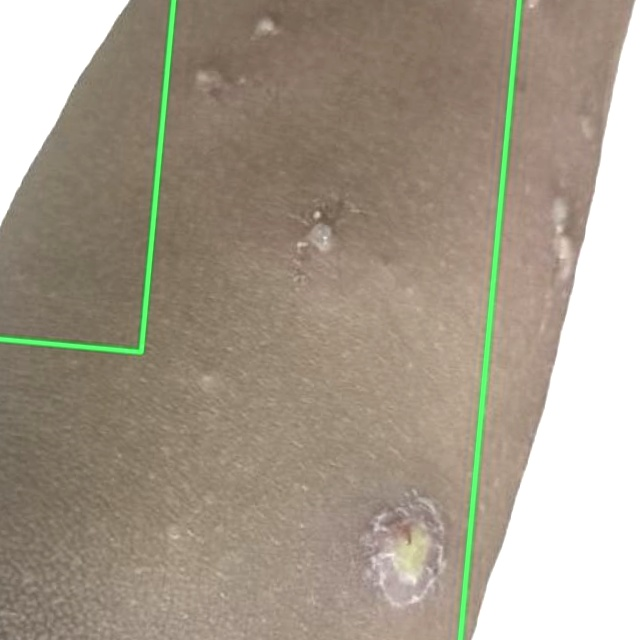Scabies: (0, 0, 174, 352)
